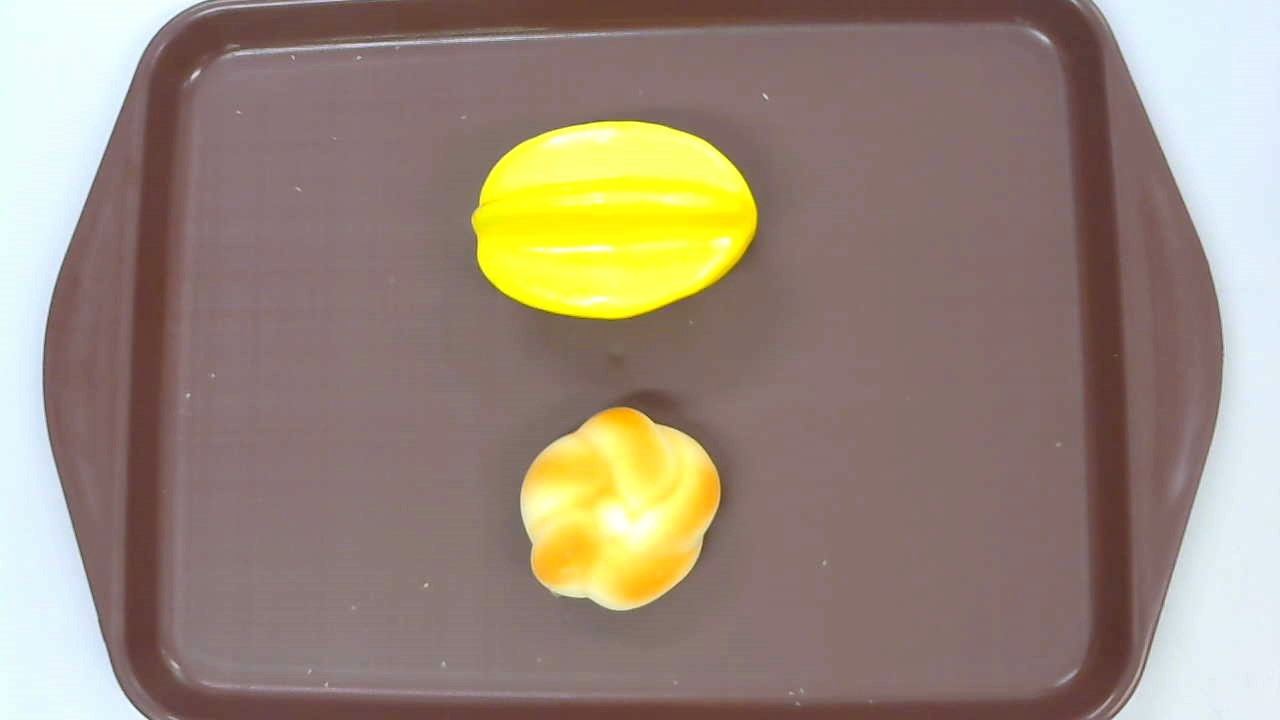star fruit: (469, 122, 758, 321)
twist bread: (518, 406, 720, 612)
